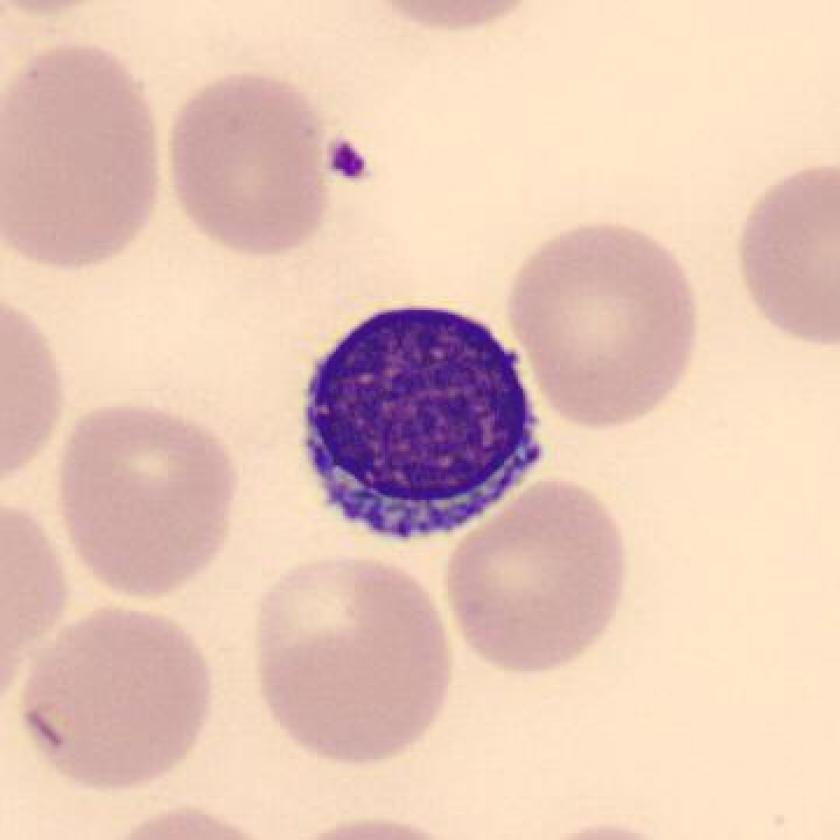lymphocyte: (290, 288, 554, 566)
